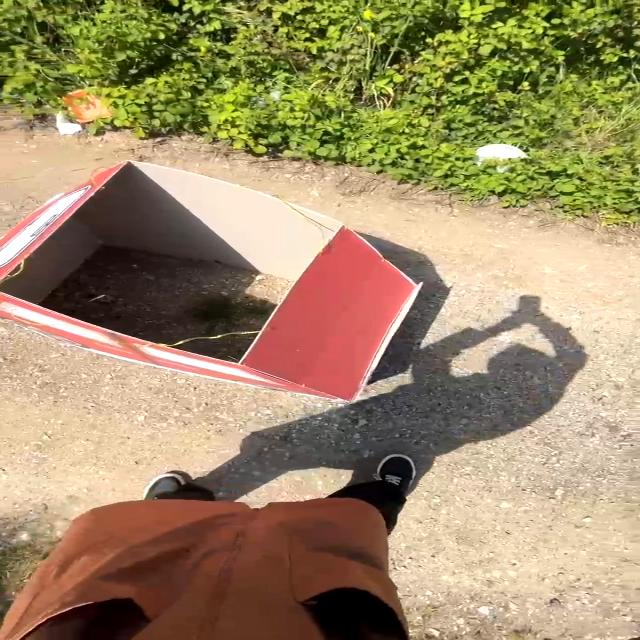red_car: (0, 132, 540, 433)
